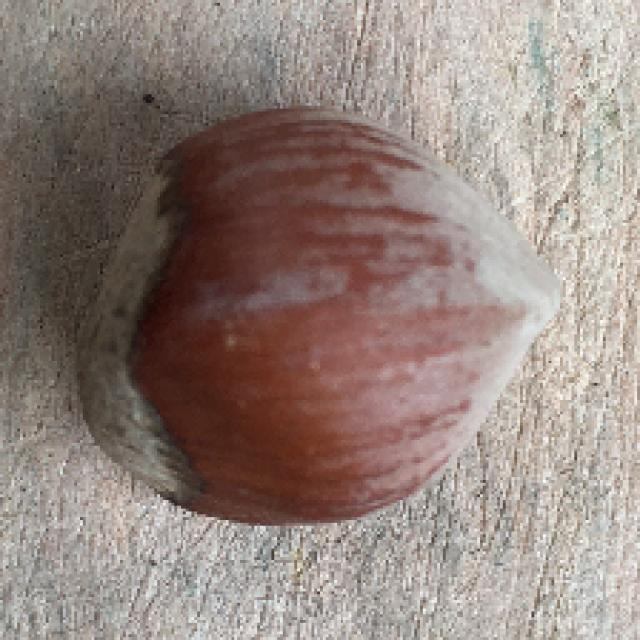qualityHazelnut: (70, 108, 560, 536)
